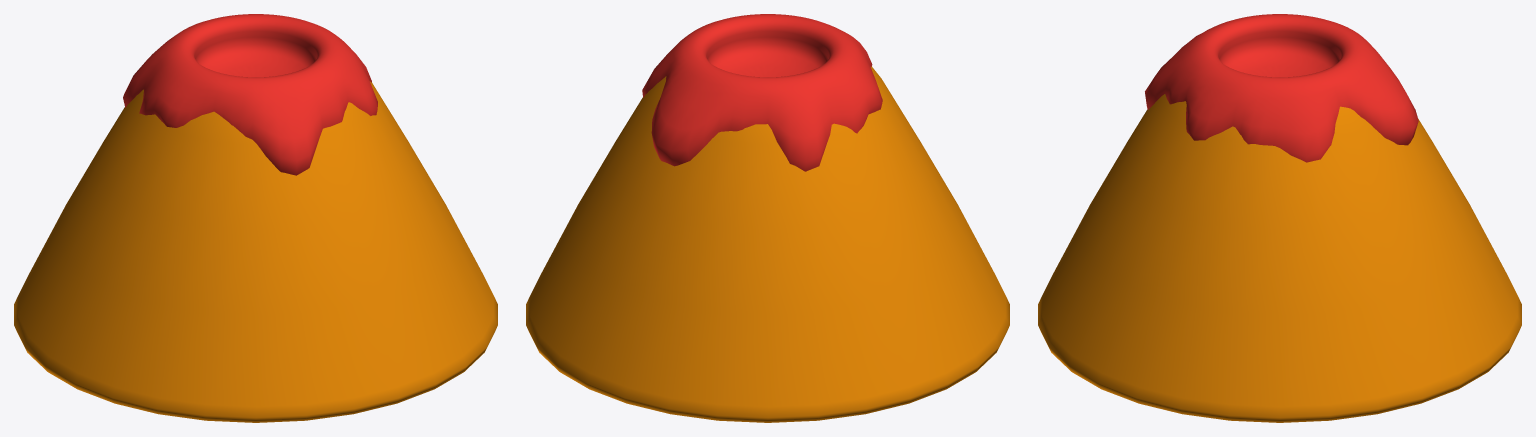
Rendered from Vulcano.fbx.
The picture shows the model from 3 angles, left to right: view 1: azimuth 30°, elevation 25°; view 2: azimuth 150°, elevation 25°; view 3: azimuth 270°, elevation 25°; orthographic projection.
Parts seen in each view (by area): view 1: polySurface1, polySurface2; view 2: polySurface1, polySurface2; view 3: polySurface1, polySurface2.
Boxes of the visible parts, x1,y1,x2,y2 form: polySurface1: (14, 81, 497, 422); polySurface2: (123, 14, 377, 175); polySurface1: (526, 66, 1009, 422); polySurface2: (642, 14, 882, 171); polySurface1: (1038, 94, 1521, 422); polySurface2: (1145, 14, 1418, 162).
Size of the model in its own units: 84.49 by 53.09 by 84.03.
Materials: 1 (1 with a texture image).
